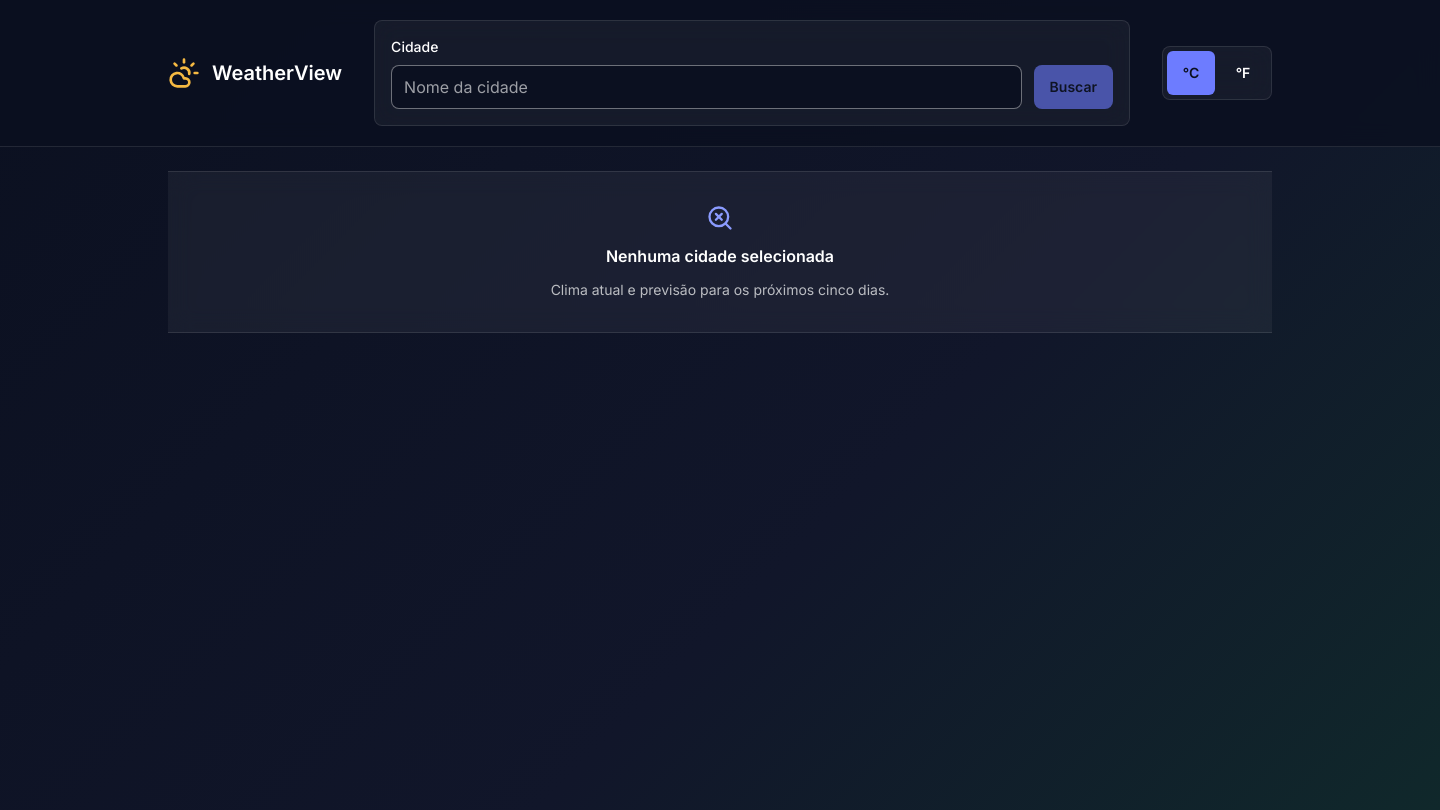
Test case: App › exibe estado vazio para busca sem resultados
This screenshot has width=1440, height=810.
In the search field: x=706, y=87 391,65 -> 1022,109, type "Recife"
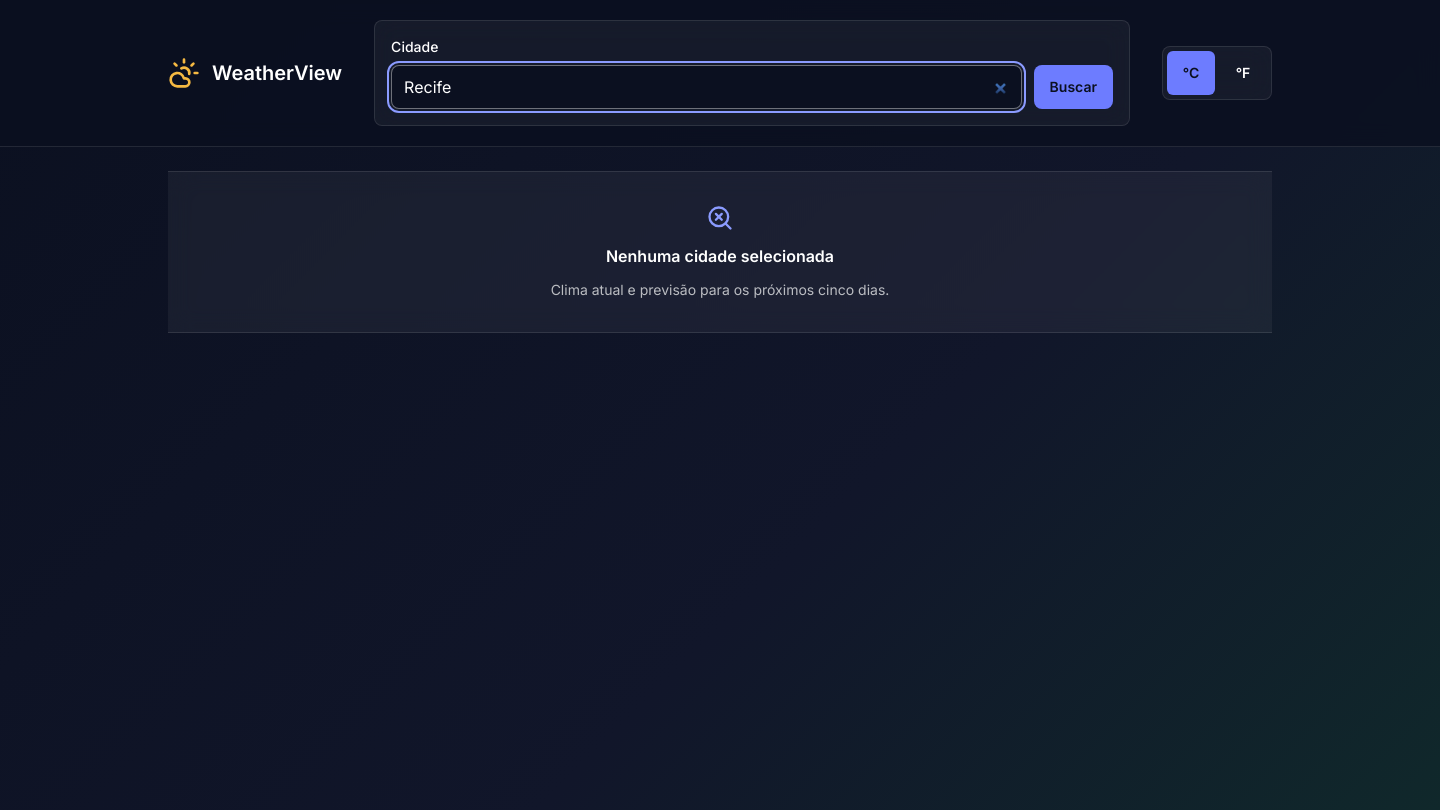
Click the button "Buscar": x=1073, y=87 1034,65 -> 1113,109
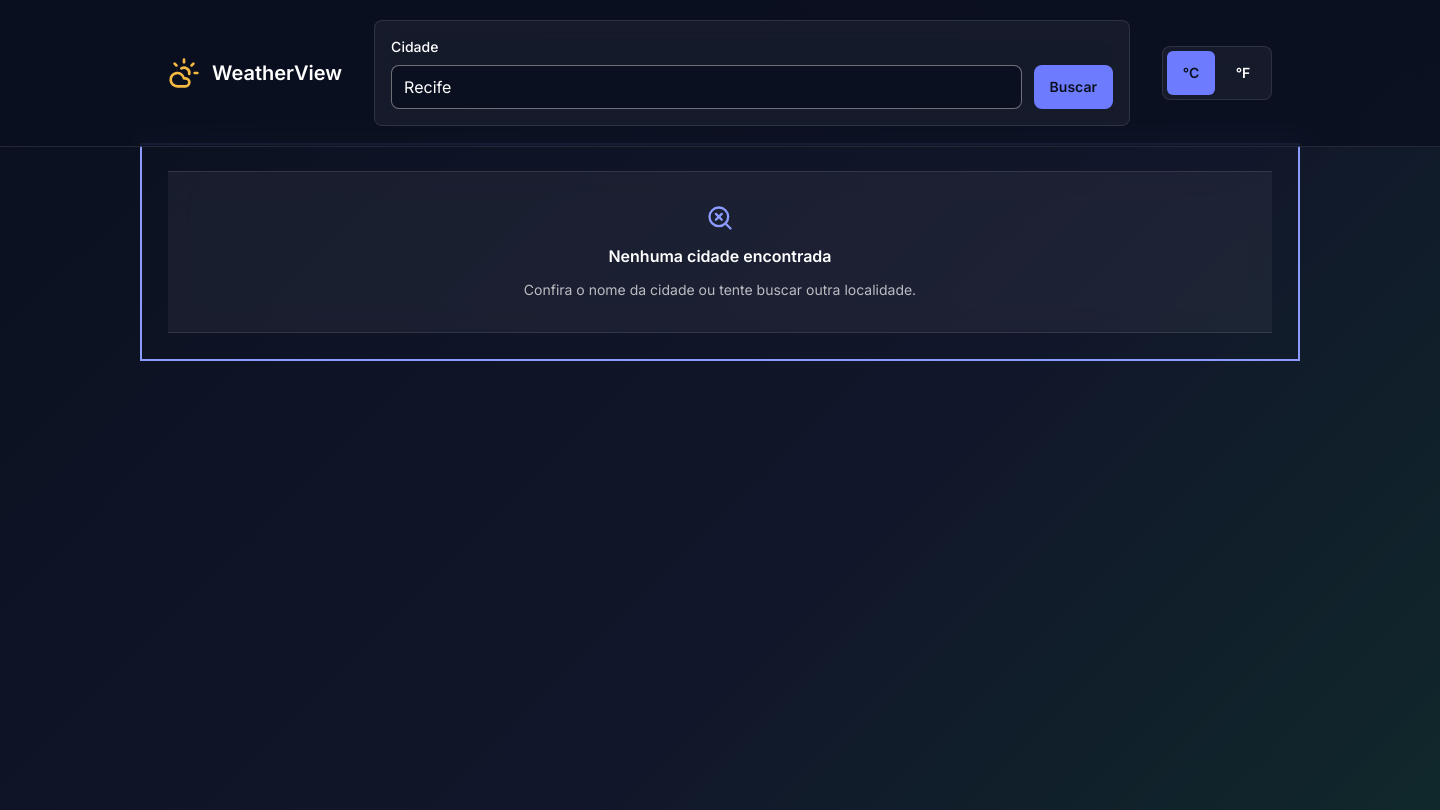
Result: the heading "Nenhuma cidade encontrada" is shown at 608,244 -> 832,268
